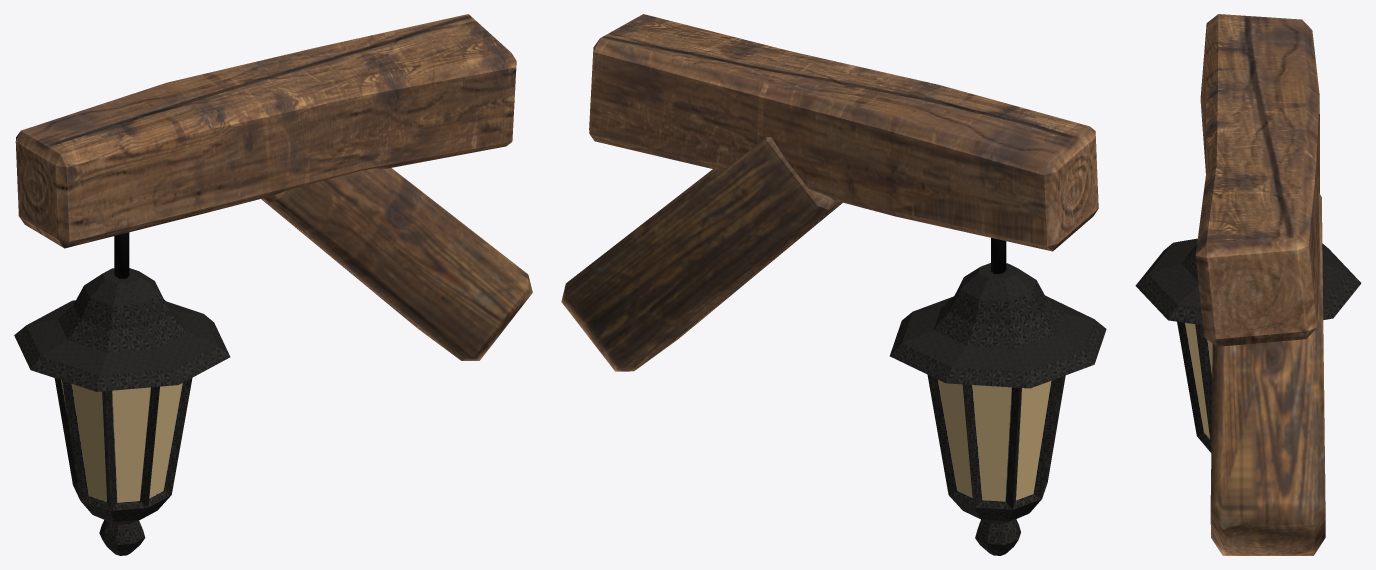
The model's file is Fashlight  small.fbx.
3 views of the same model, side by side, from view 1: azimuth 30°, elevation 25°; view 2: azimuth 150°, elevation 25°; view 3: azimuth 270°, elevation 25° (orthographic). The views are drawn at different scales.
Visible parts, largest first — view 1: Fashlight small; view 2: Fashlight small; view 3: Fashlight small.
Part boxes in pixels (bbox=[...]): Fashlight small: bbox=[14, 14, 532, 555]; Fashlight small: bbox=[561, 14, 1106, 555]; Fashlight small: bbox=[1135, 14, 1361, 555].
Size of the model in its own units: 0.9831 by 0.8253 by 0.3731.
